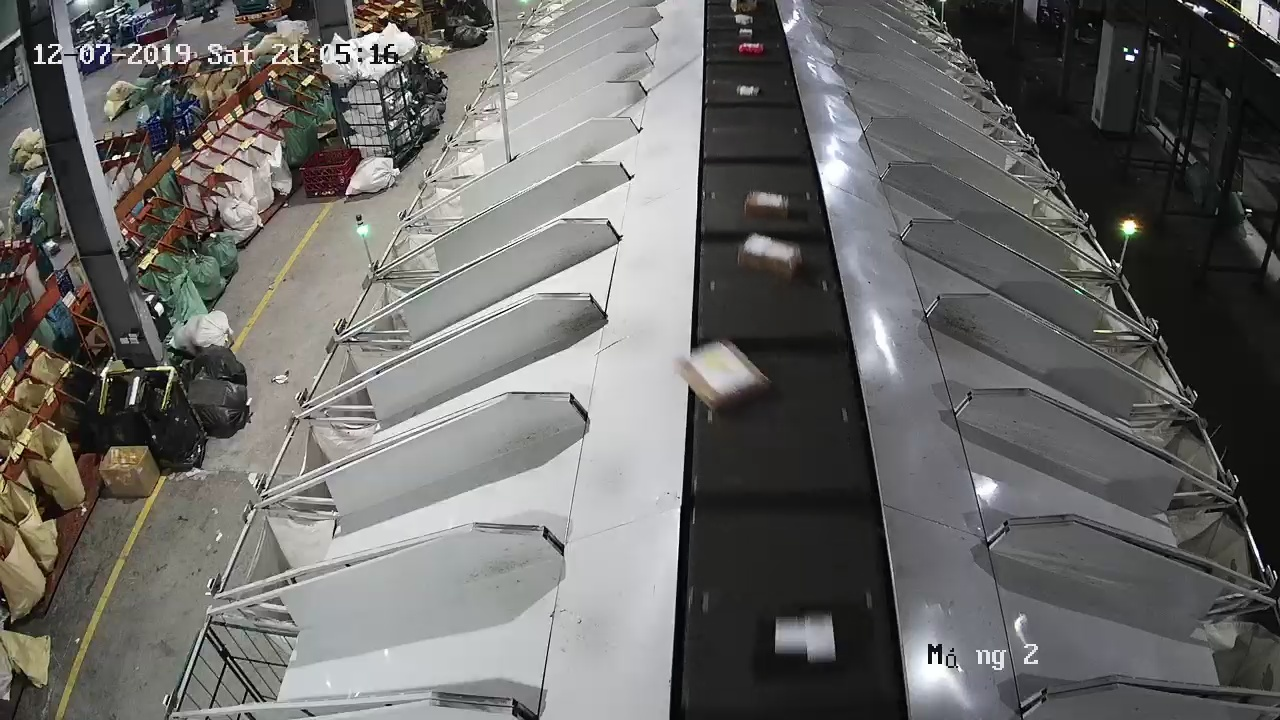parcel: (674, 338, 773, 413)
